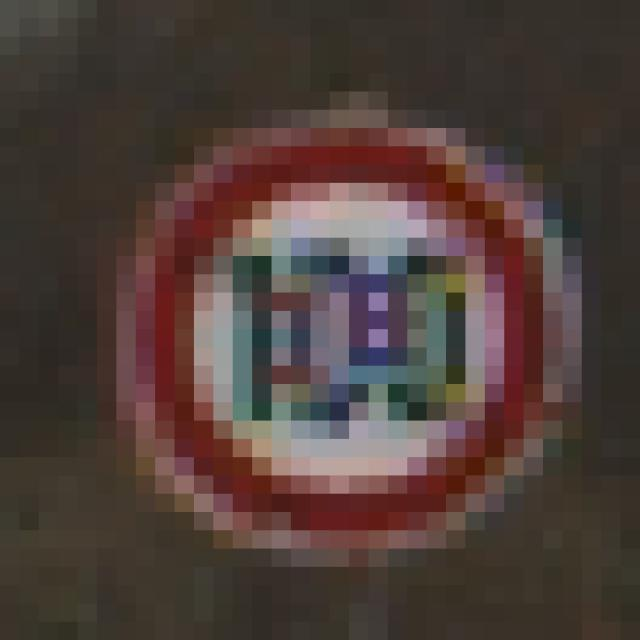Ograniczenie predkosci do 100: (147, 128, 554, 538)
